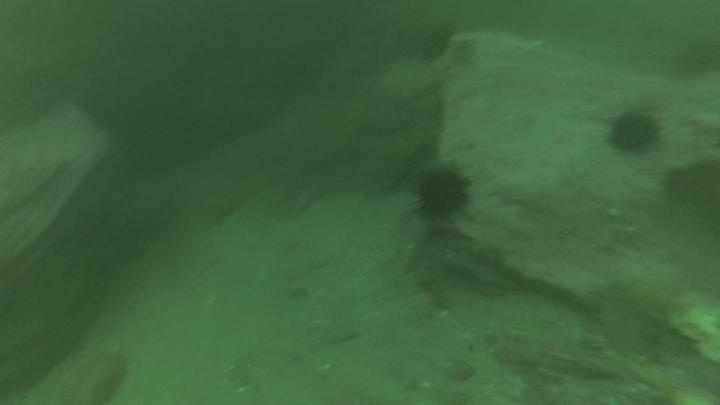echinus: (411, 163, 473, 224), (606, 109, 663, 157), (671, 34, 719, 80), (416, 22, 457, 64)
